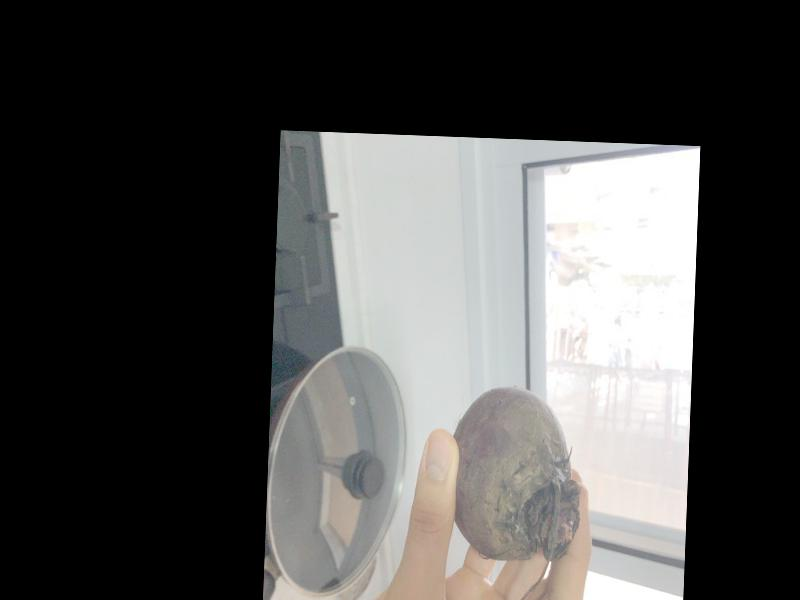Beet: (445, 384, 585, 600)
